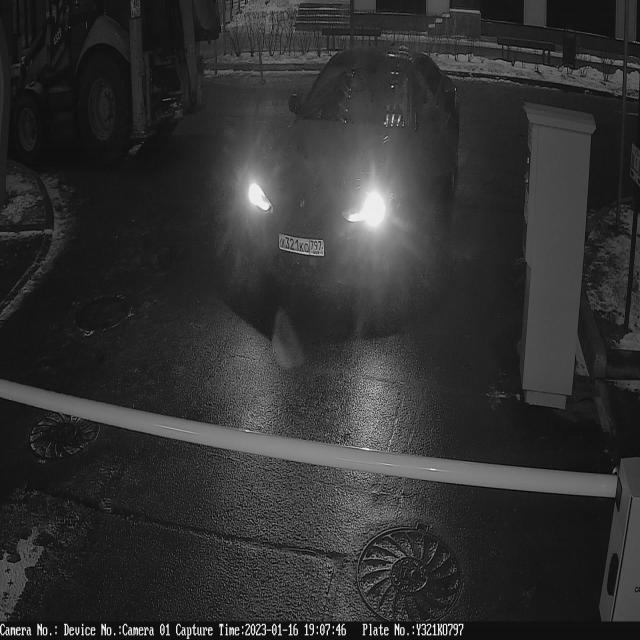car-plate-numbers: (277, 228, 329, 263)
